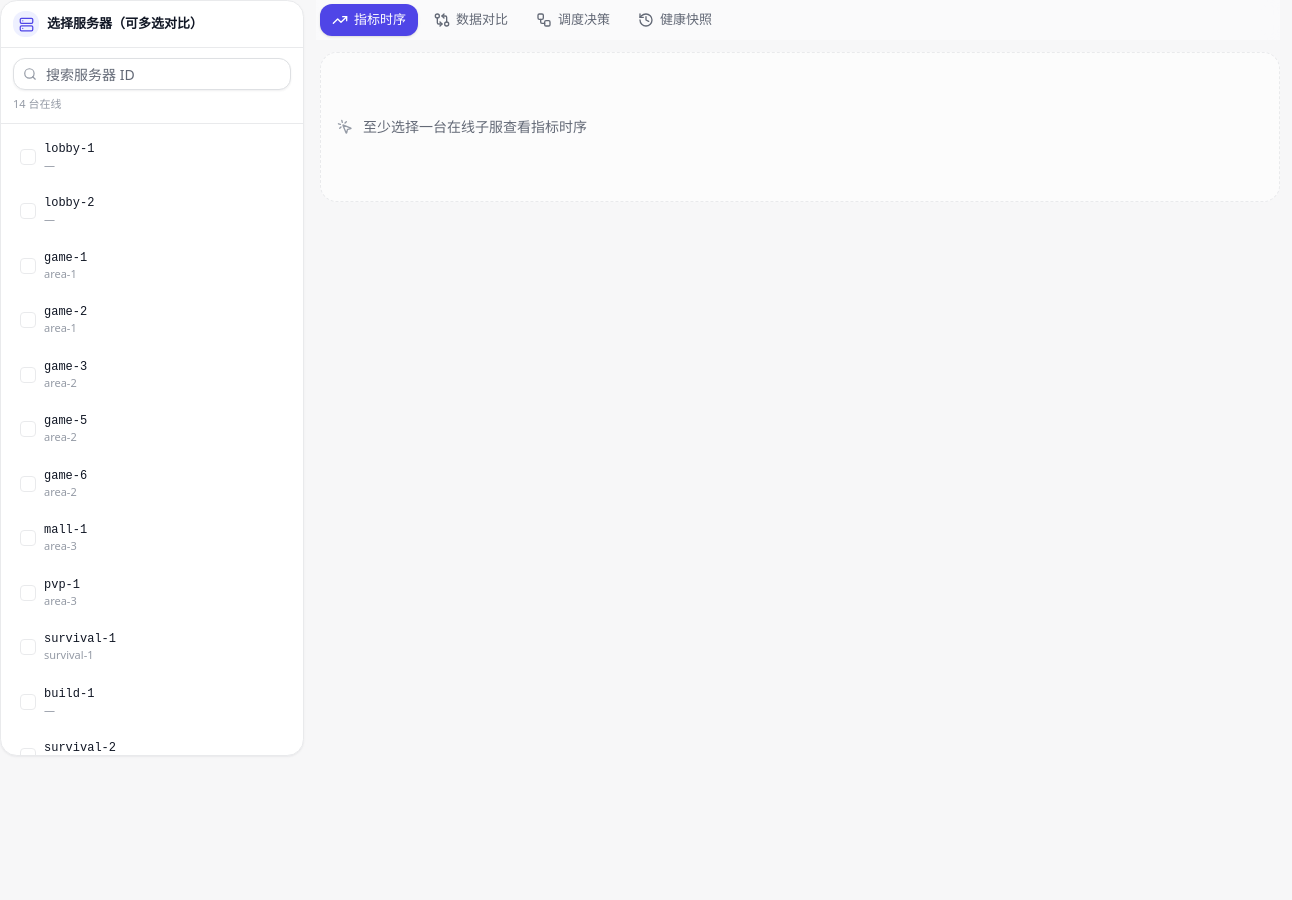
Test case: /service-analysis 服务分析页 › 切到「数据对比」板块展示并排对比矩阵与差异图例
Expected: the text "选择服务器（可多选对比）" is shown, [47,14,203,32]
// 选两台以上才可对比
Click the checkbox labelled "lobby-1": coordinates (69, 148) [9,132,295,182]
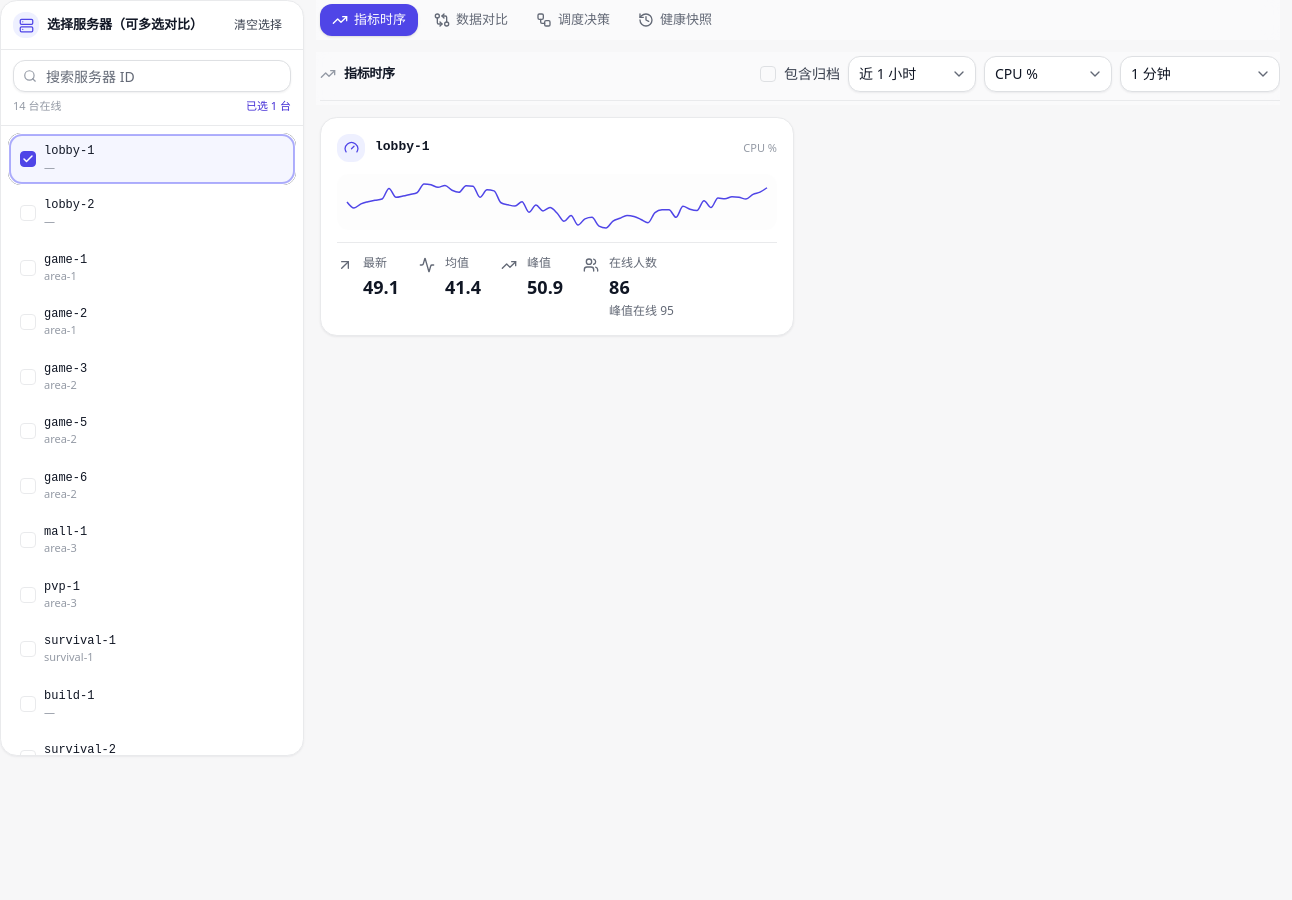
Click the checkbox labelled "game-1": coordinates (66, 260) [9,242,295,293]
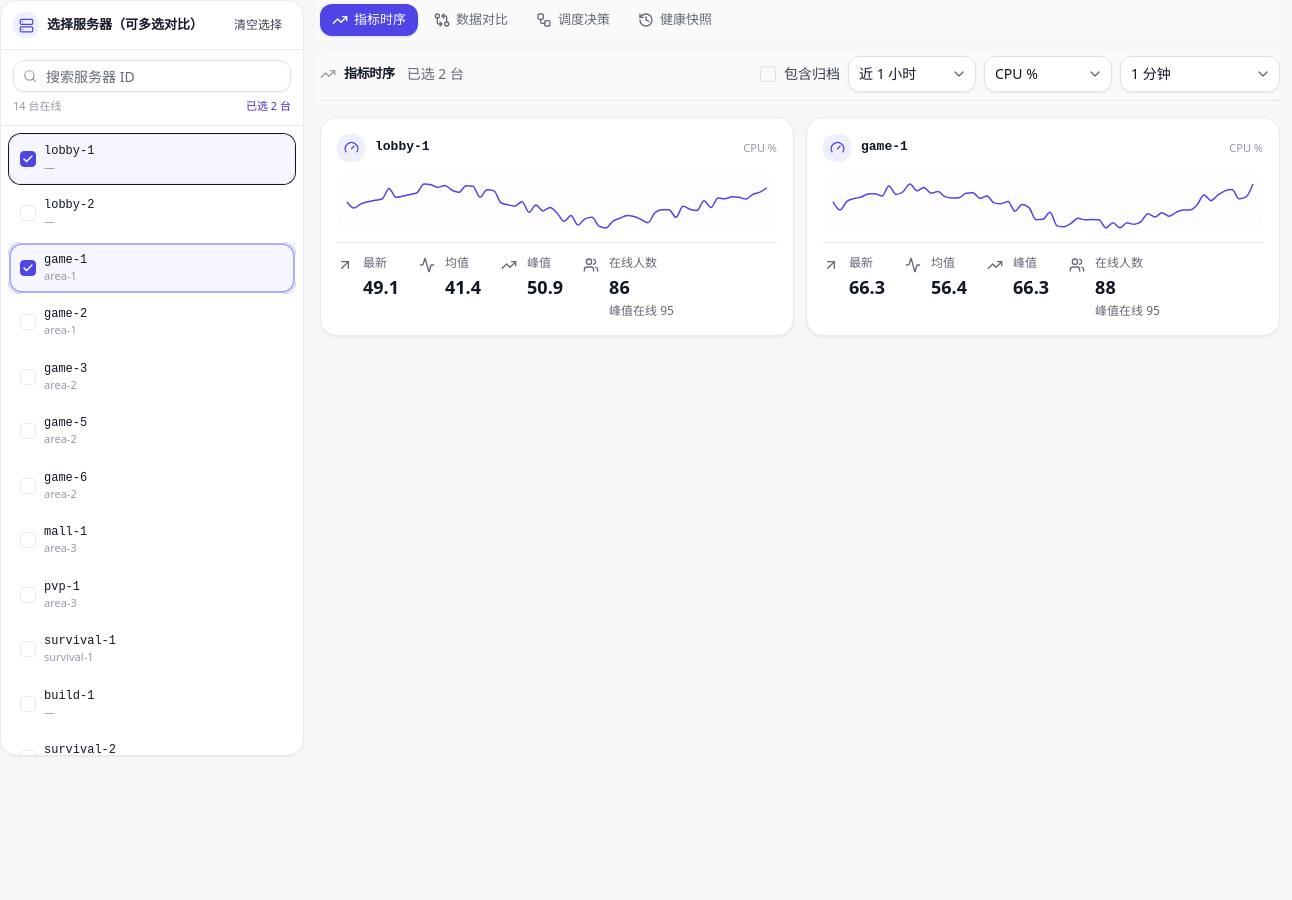
// 切到数据对比板块
Click the tab "数据对比": coordinates (471, 20) [422,4,520,36]
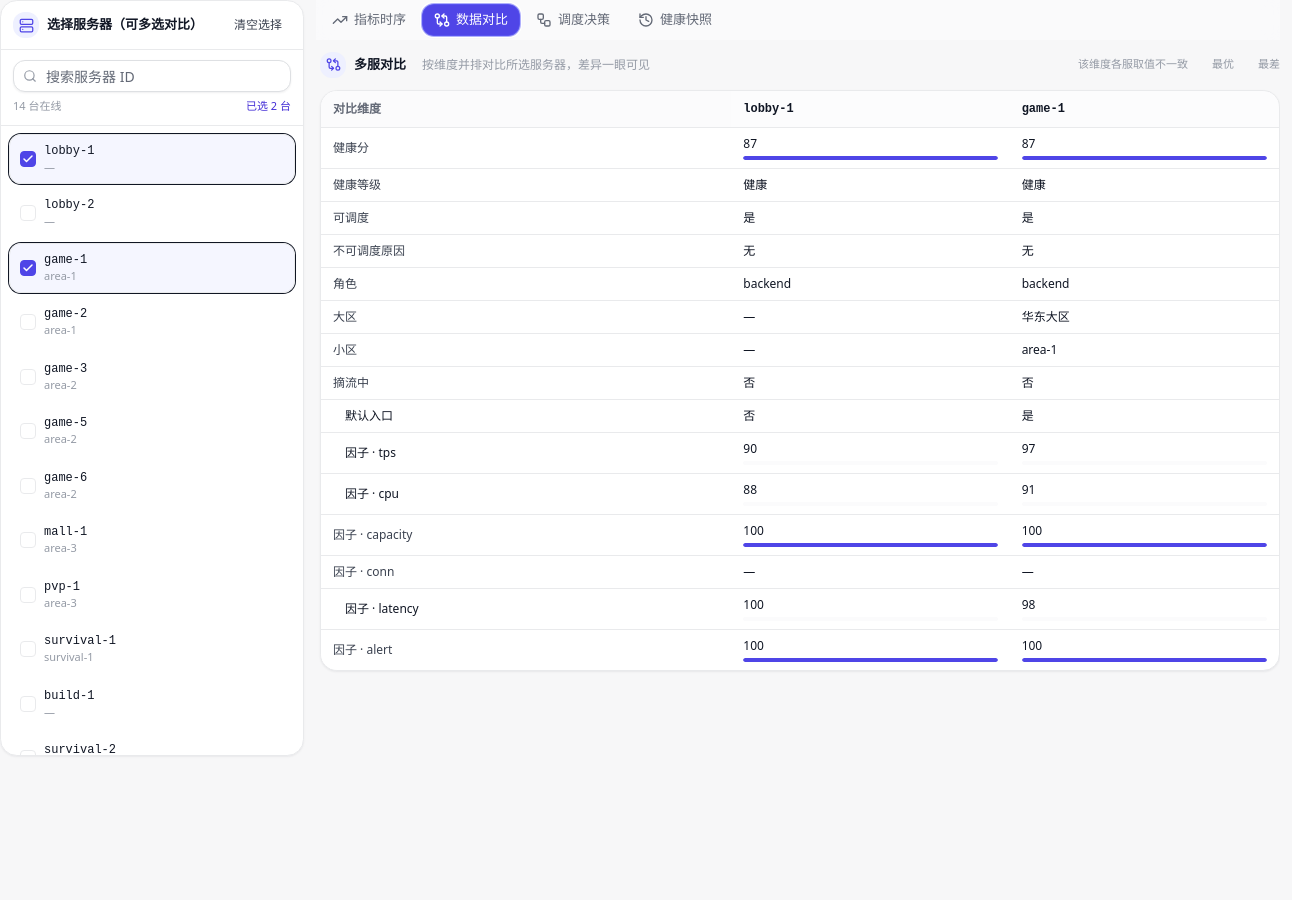
Result: the column heading "对比维度" is shown at [321,90,731,127]
Result: the text "健康分" is shown at [333,138,369,156]
Result: the text "最优" is shown at [1212,56,1234,71]
